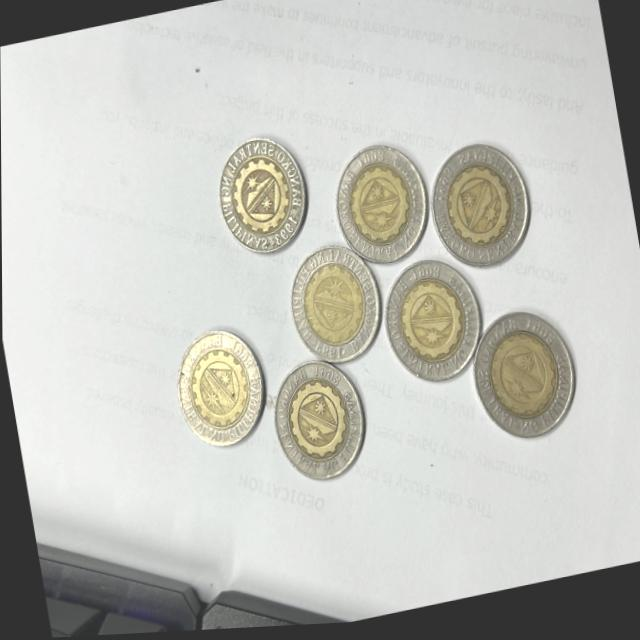10_Old_Back: (470, 314, 569, 445), (287, 246, 386, 374), (427, 149, 530, 271), (270, 360, 366, 489), (169, 331, 263, 461), (332, 146, 431, 268), (384, 260, 478, 388), (213, 139, 310, 261)
